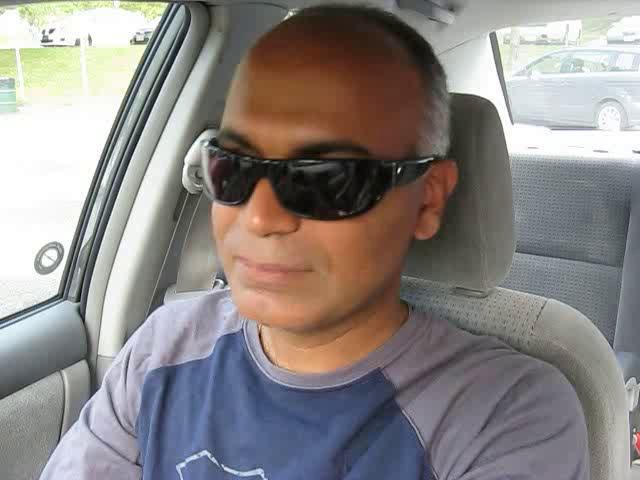no_yawn: (217, 244, 324, 293)
